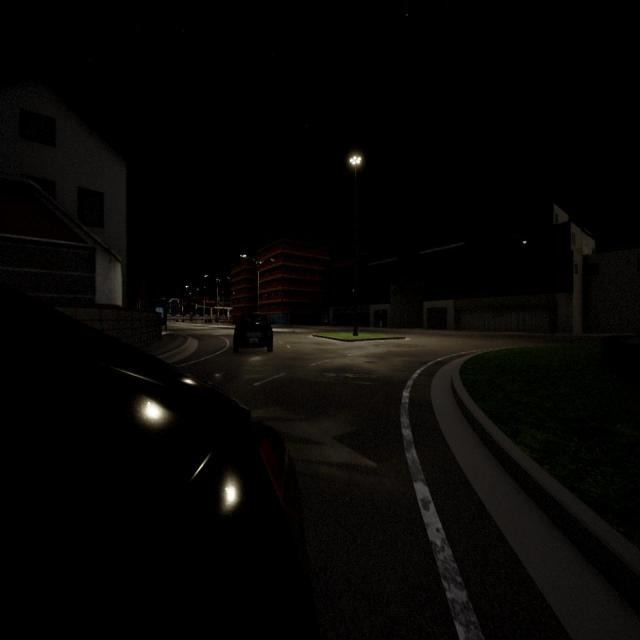Vehicle: (0, 291, 308, 637), (234, 313, 272, 352)
